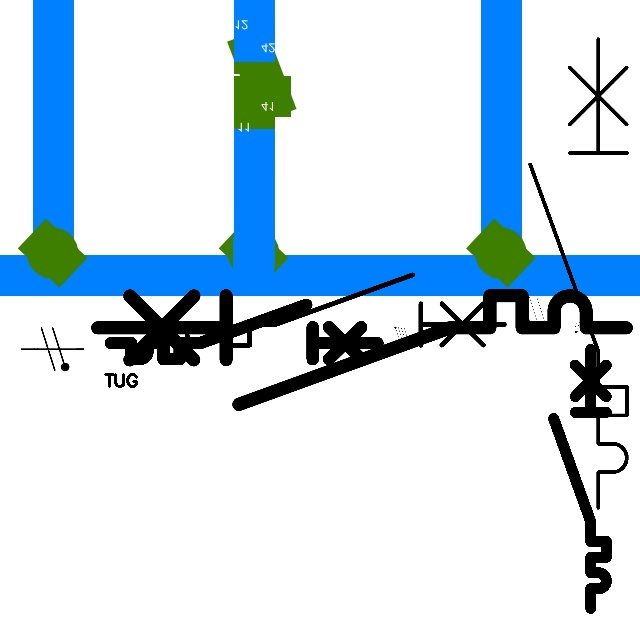interruptor_termomagnetico: (83, 282, 639, 418), (518, 27, 639, 520), (152, 266, 513, 354), (104, 298, 384, 366), (547, 342, 613, 614)
